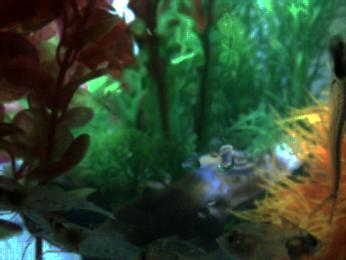X-ray fish: (214, 220, 284, 260), (253, 222, 326, 260)
glassfish: (315, 33, 346, 225)
siberian prawn: (1, 171, 121, 223), (24, 214, 149, 260)
